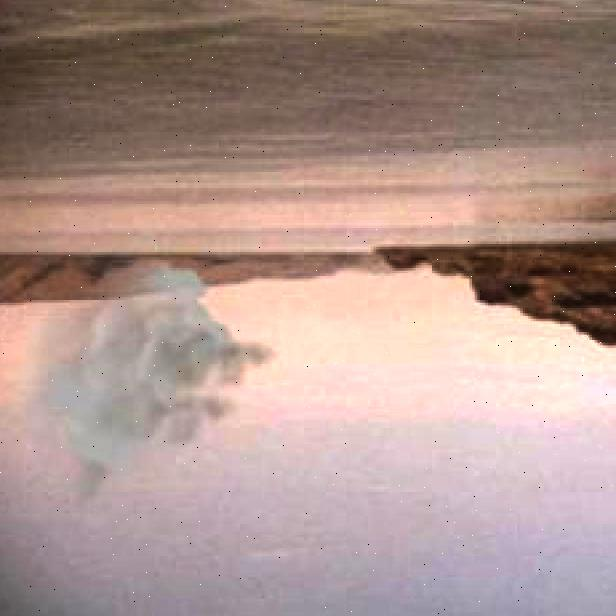smoke: (9, 254, 287, 509)
